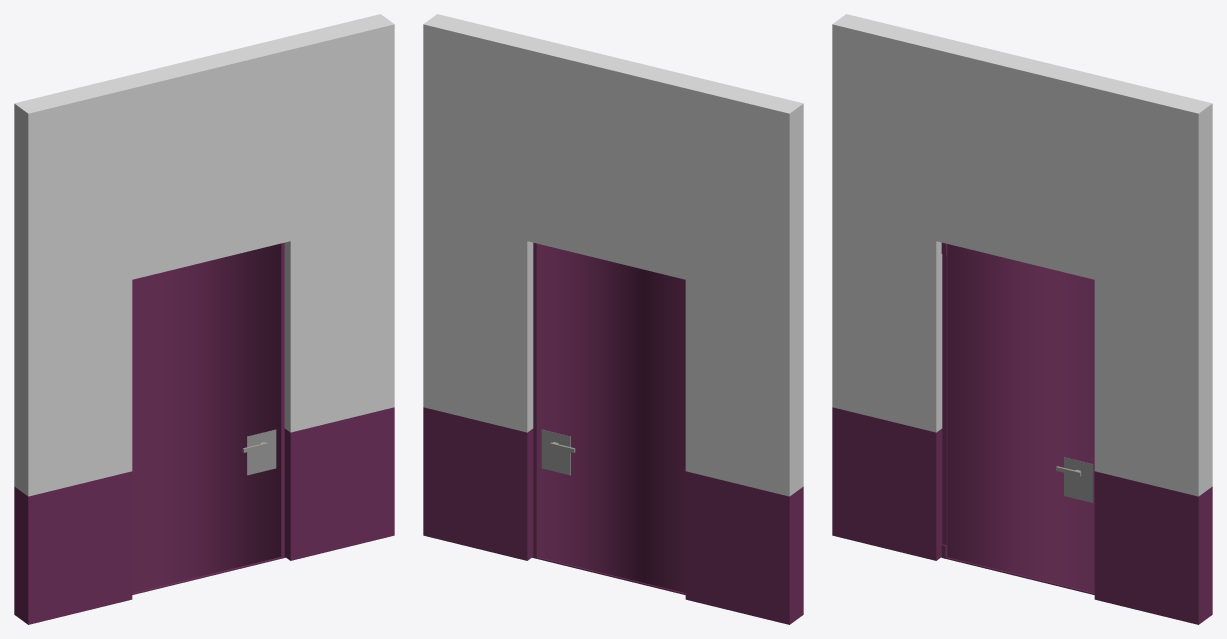
The model's file is WallOffice7.fbx.
The picture shows the model from 3 angles, left to right: view 1: azimuth 30°, elevation 25°; view 2: azimuth 150°, elevation 25°; view 3: azimuth 330°, elevation 25°; orthographic projection.
Visible parts, largest first — view 1: WallOffice4; view 2: WallOffice4; view 3: WallOffice4.
Part boxes in pixels (box(x1,y1,x2,y2)): WallOffice4: box(14, 14, 394, 624); WallOffice4: box(423, 14, 803, 624); WallOffice4: box(832, 14, 1212, 624).
Size of the model in its own units: 300 by 401 by 20.01.
